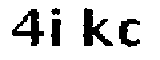4: (7, 7, 46, 50)
c: (117, 16, 144, 48)
i: (47, 6, 67, 53)
k: (77, 5, 115, 54)
